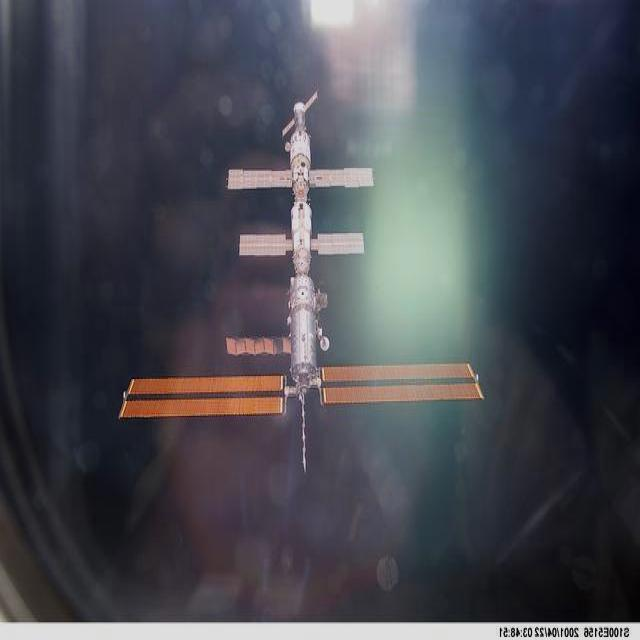medium_debris: (116, 88, 479, 471)
